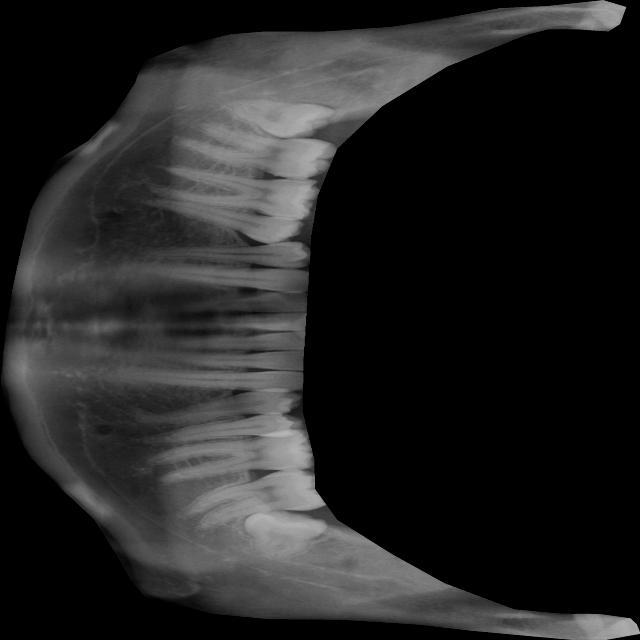mandibula: (0, 0, 640, 640)
